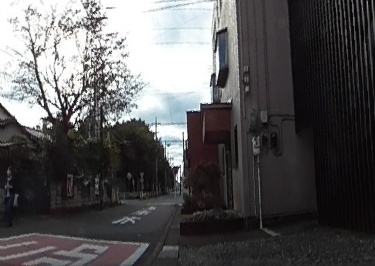person: (2, 163, 17, 226)
